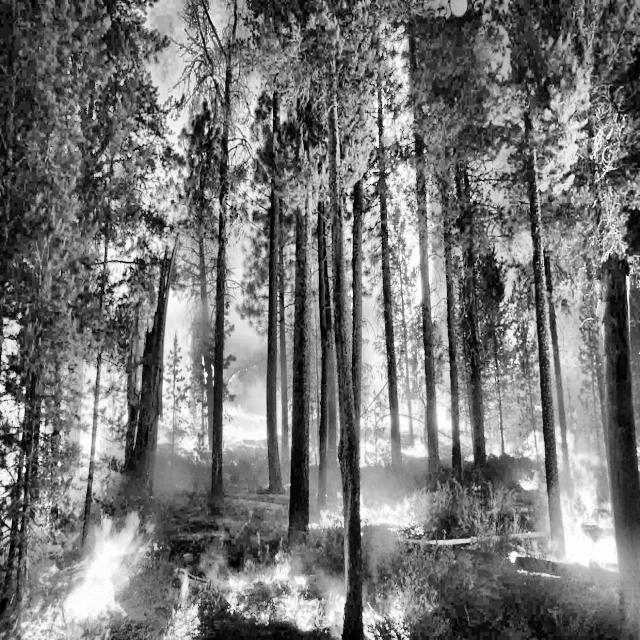fire: (363, 44, 640, 639), (153, 214, 358, 509), (0, 440, 174, 640)
